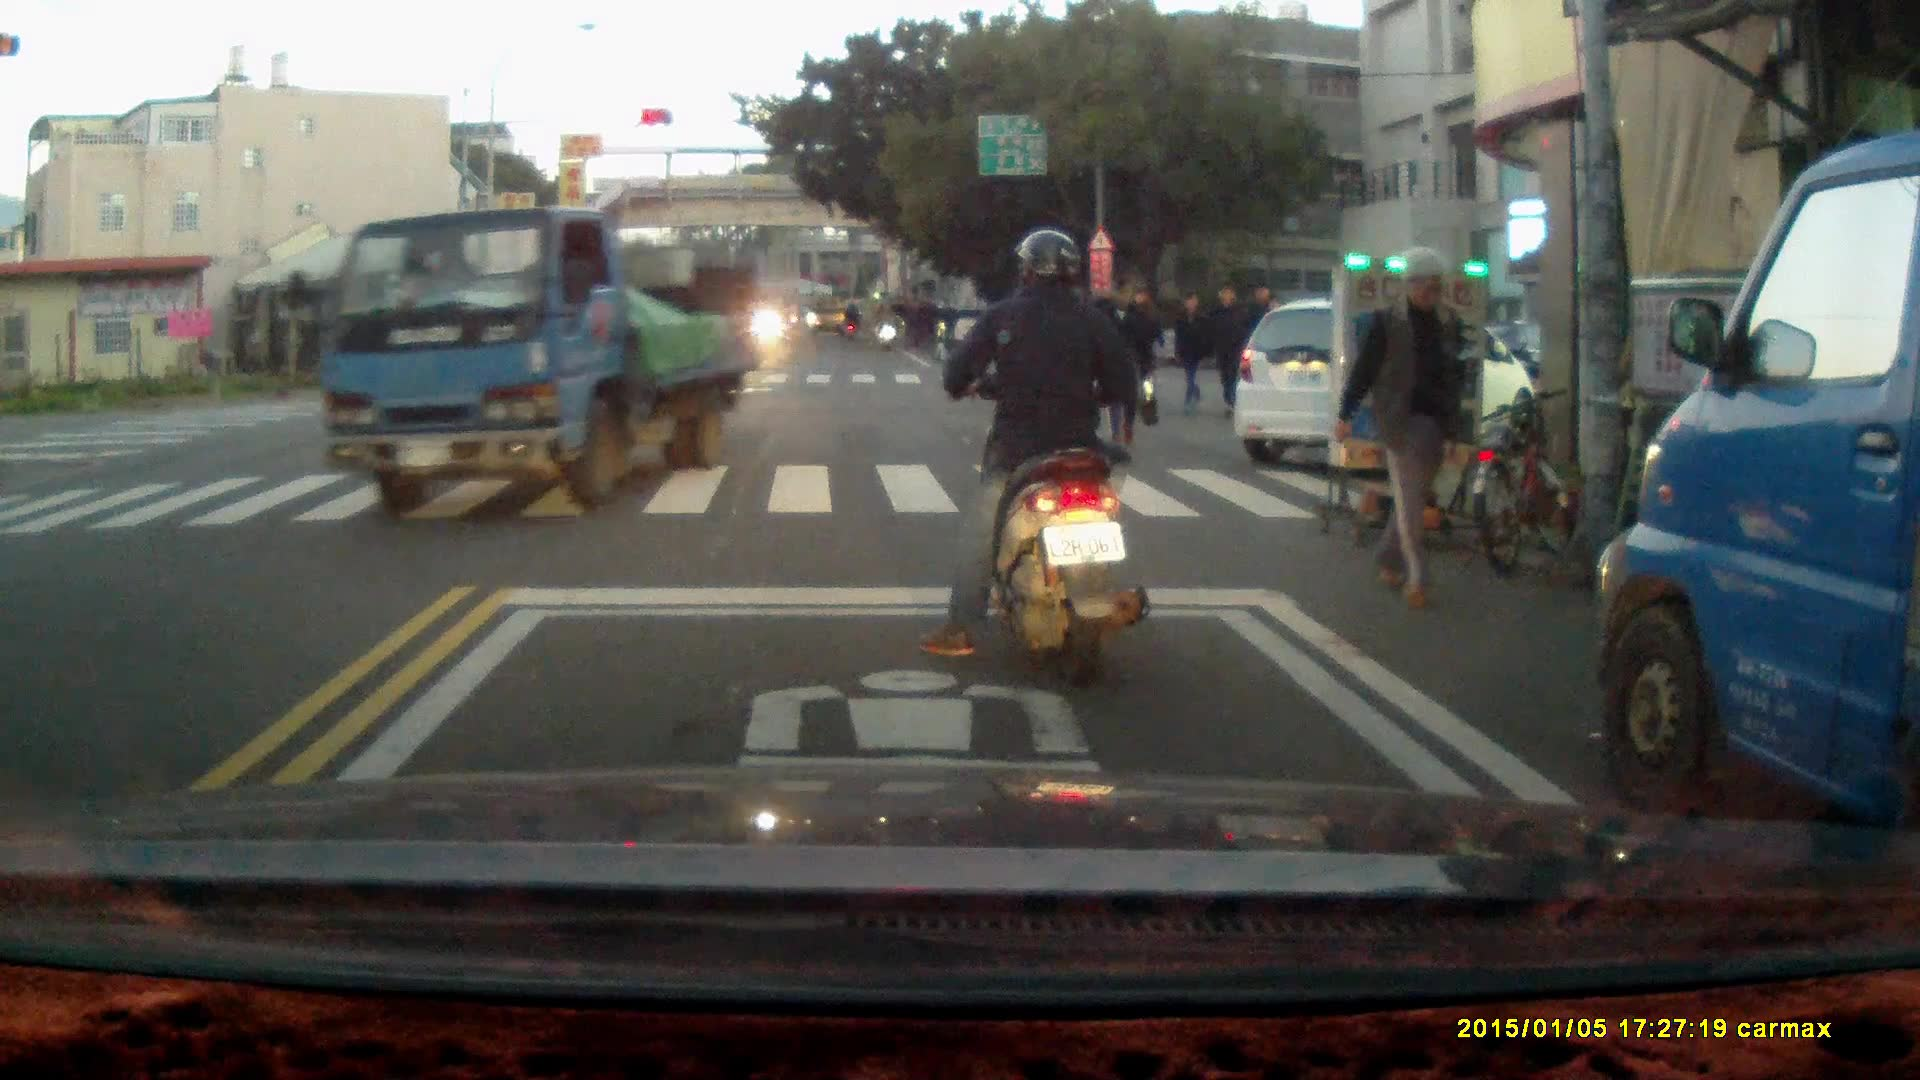pedestrian: (1333, 242, 1482, 611), (1091, 275, 1159, 455), (1168, 286, 1208, 419), (1204, 283, 1245, 412)
rider: (917, 229, 1150, 691), (870, 300, 900, 357)
vehicle: (1596, 120, 1920, 901), (321, 204, 765, 515), (1236, 303, 1533, 462)
